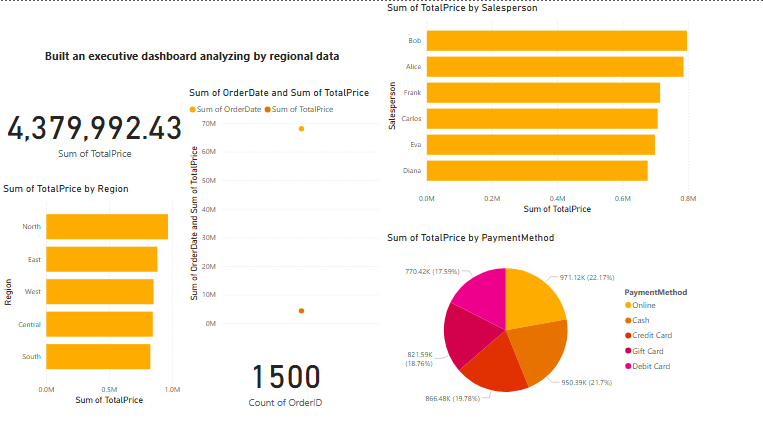

What the dashboard file says about the page in this screenshot:
{"tool":"powerbi","page":{"name":"Page 1","canvas":[1280,720],"ordinal":0},"visuals":[{"type":"clusteredBarChart","fields":{"Category":["Sheet1.Region"],"Y":["Sheet1.TotalPrice"]},"box":[0,301.4,305.7,377.1],"z":0},{"type":"card","fields":{"Values":["Sheet1.TotalPrice"]},"box":[4.3,128.6,305.7,172.9],"z":1000},{"type":"pieChart","fields":{"Category":["Sheet1.PaymentMethod"],"Y":["Sheet1.TotalPrice"]},"box":[640,382.9,525.7,311.4],"z":2000},{"type":"clusteredBarChart","fields":{"Category":["Sheet1.Salesperson"],"Y":["Sheet1.TotalPrice"]},"box":[640,0,525.7,360],"z":3000},{"type":"lineChart","fields":{"Y":["Sheet1.OrderDate","Sheet1.TotalPrice"]},"box":[310,141.4,330,410],"z":4000},{"type":"card","fields":{"Values":["Sheet1.OrderID"]},"box":[368.6,567.1,214.3,127.1],"z":5000},{"type":"textbox","box":[0,0,640,141.4],"z":6000}]}

Visuals, with their boxes in screenshot pixels (x1, y1, x2, y2), scaled from the page's 1280x720 canvas onto the 763x433 screenshot:
clusteredBarChart - Sheet1.Region x Sheet1.TotalPrice: bbox=(0, 181, 182, 408)
card - Sheet1.TotalPrice: bbox=(3, 77, 185, 181)
pieChart - Sheet1.PaymentMethod x Sheet1.TotalPrice: bbox=(382, 230, 695, 418)
clusteredBarChart - Sheet1.Salesperson x Sheet1.TotalPrice: bbox=(382, 0, 695, 216)
lineChart - Sheet1.OrderDate x Sheet1.TotalPrice: bbox=(185, 85, 382, 332)
card - Sheet1.OrderID: bbox=(220, 341, 347, 417)
textbox: bbox=(0, 0, 382, 85)
